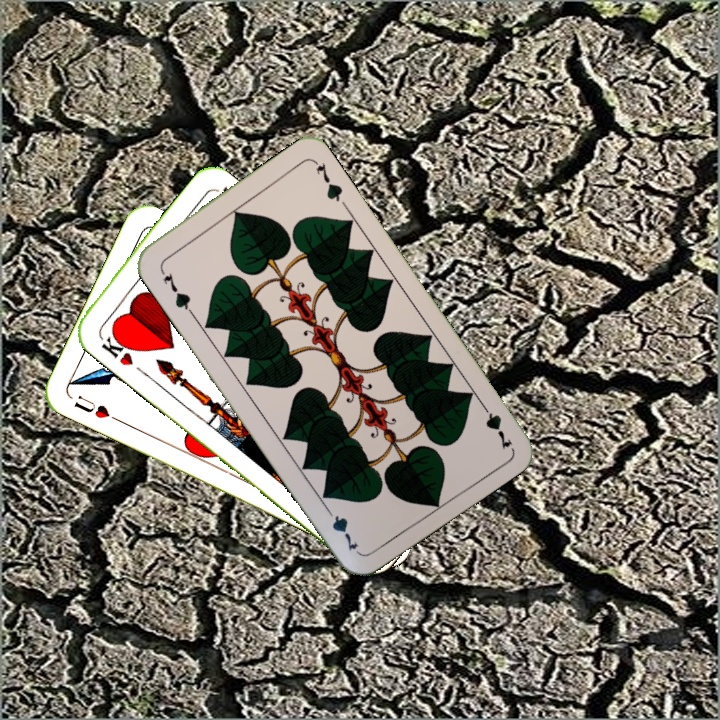G7: (475, 396, 515, 452), (156, 265, 196, 316)
HK: (97, 327, 138, 369)
HU: (70, 391, 122, 425)
